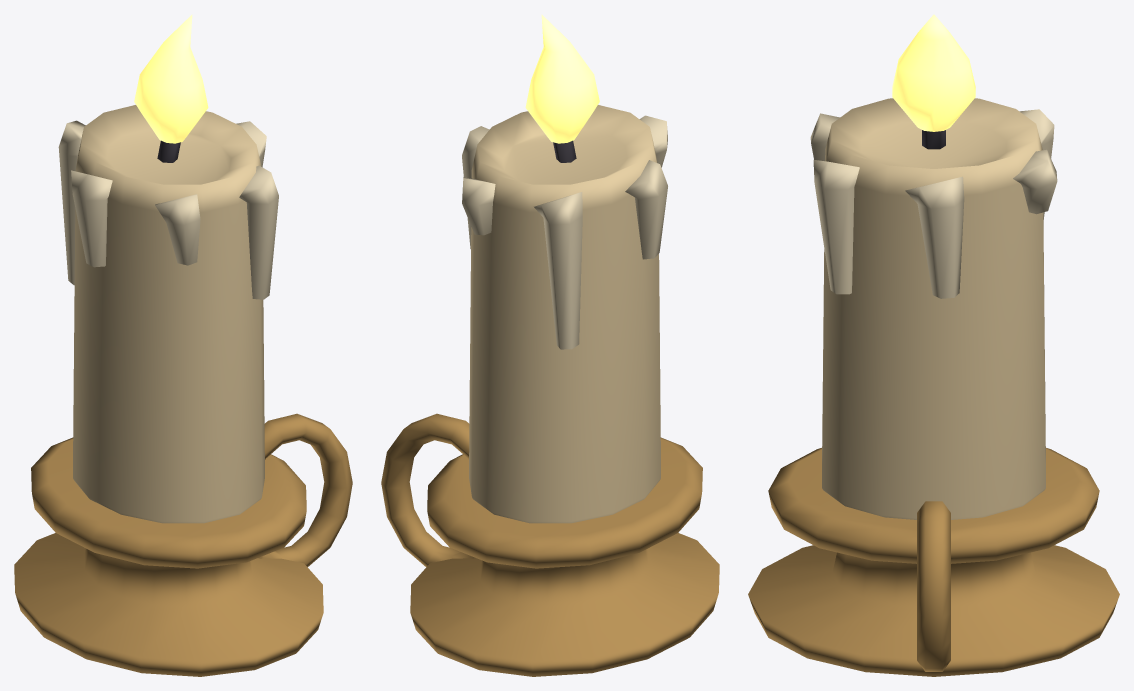
Rendered from counter_candle.glb.
The picture shows the model from 3 angles, left to right: view 1: azimuth 30°, elevation 25°; view 2: azimuth 150°, elevation 25°; view 3: azimuth 270°, elevation 25°; orthographic projection. The views are drawn at different scales.
Parts seen in each view (by area): view 1: counter_candle; view 2: counter_candle; view 3: counter_candle.
Part boxes in pixels (x1,y1,x2,y2): counter_candle: (14, 14, 352, 676); counter_candle: (381, 14, 719, 676); counter_candle: (748, 14, 1119, 676).
Bounding box in the file's own units: 0.14 × 0.26 × 0.14.
